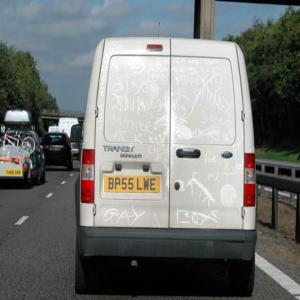Vehicle-registration-plate: (107, 164, 164, 211), (6, 172, 23, 177)
